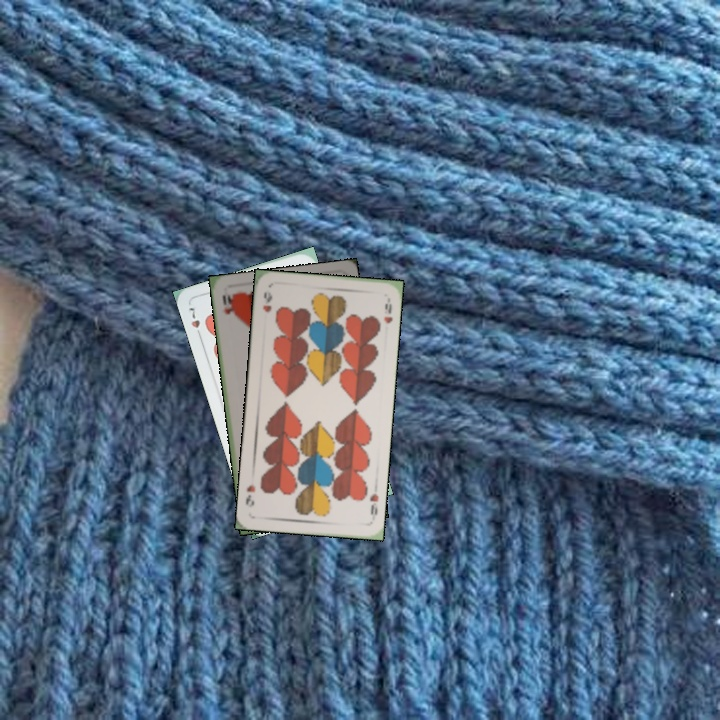H7: (184, 303, 204, 341)
H9: (366, 489, 381, 518), (259, 288, 275, 314)
HO: (218, 289, 237, 319)
